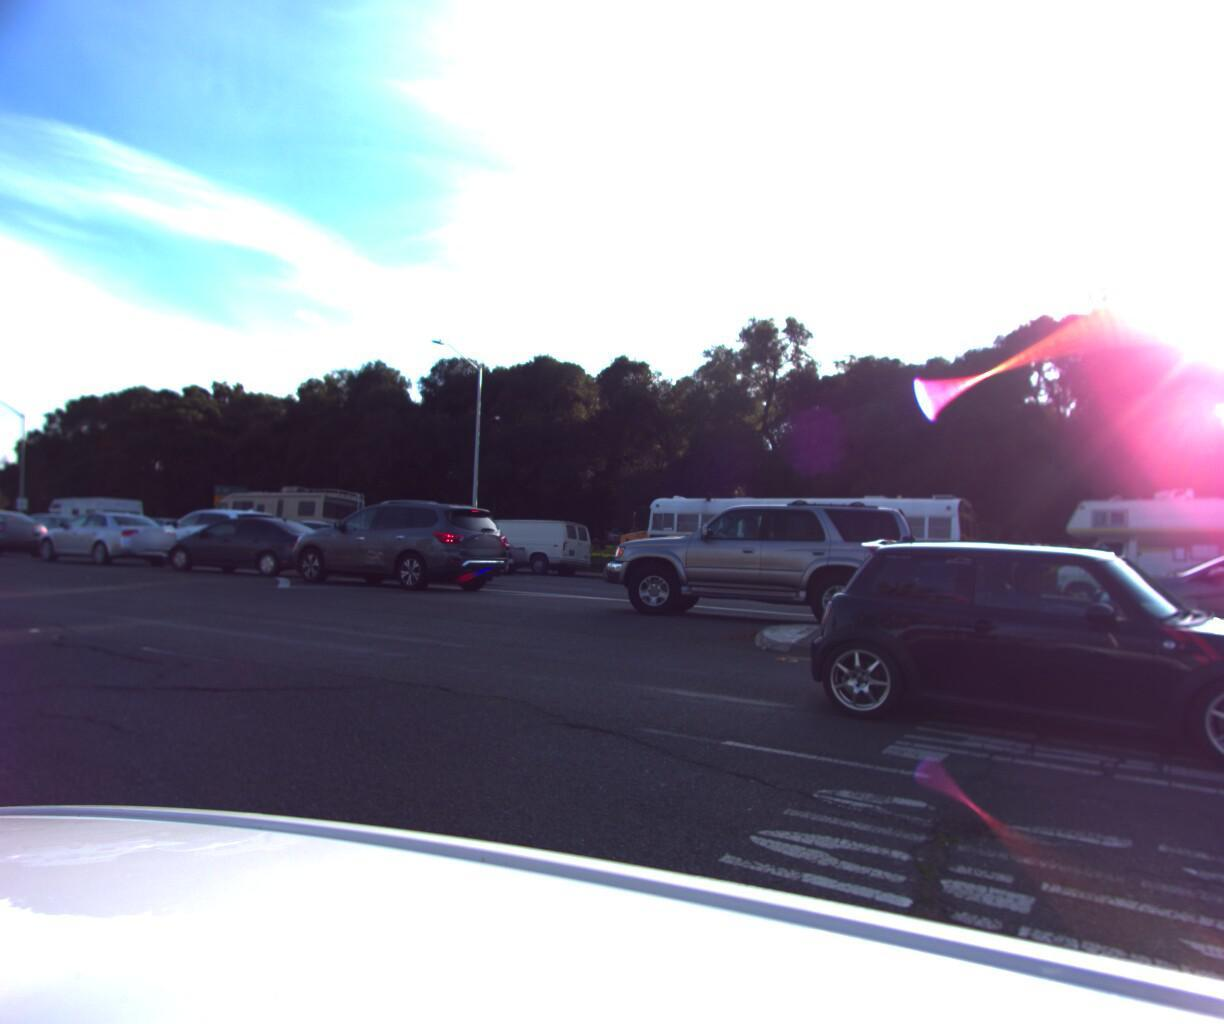bus: (602, 489, 981, 607)
car: (788, 525, 1224, 785), (586, 492, 921, 634), (274, 499, 516, 597), (1079, 527, 1224, 680), (787, 530, 1020, 618), (148, 513, 343, 578), (333, 520, 517, 587), (25, 511, 186, 571), (450, 517, 595, 581), (124, 508, 282, 565), (404, 528, 538, 577), (0, 511, 57, 562)
other_vehicle: (1055, 481, 1224, 630), (199, 486, 370, 563), (44, 497, 152, 552)
